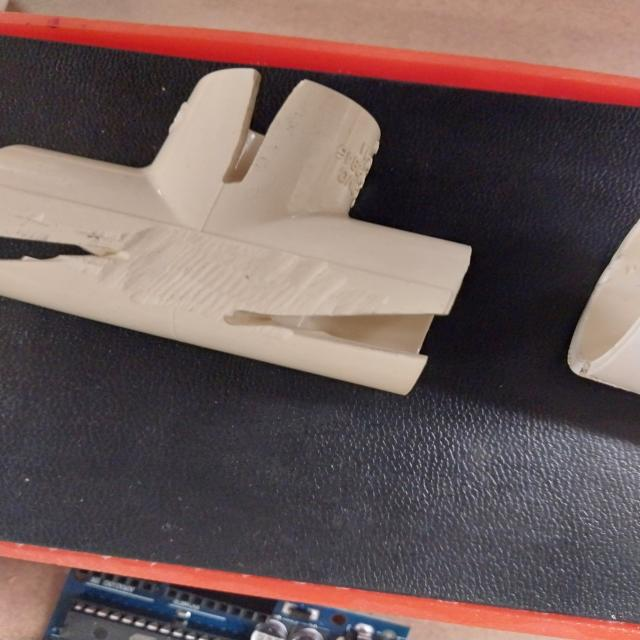Defective: (278, 316, 440, 364), (224, 71, 277, 189), (0, 225, 132, 267)
T Joint: (0, 61, 475, 405), (568, 215, 640, 402)
